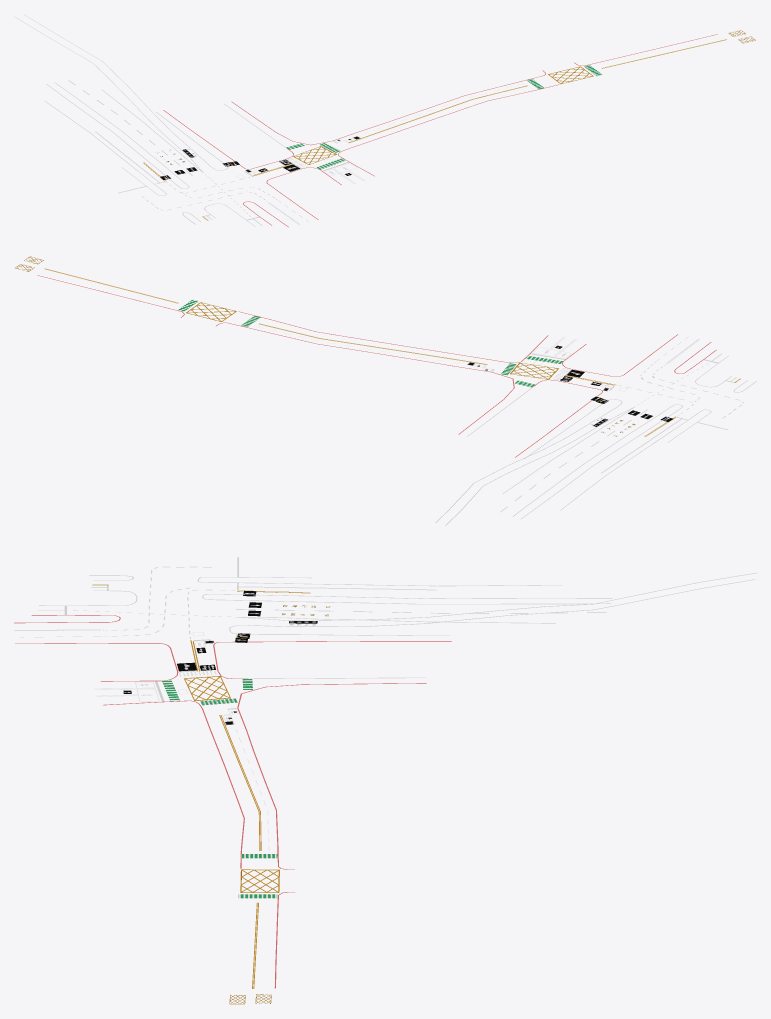
File: RoadSign.fbx
3 renders of one model, top to bottom at view 1: azimuth 30°, elevation 25°; view 2: azimuth 150°, elevation 25°; view 3: azimuth 270°, elevation 25°, orthographic. The views are drawn at different scales.
Parts seen in each view (by area): view 1: Plane.027; view 2: Plane.027; view 3: Plane.027.
Part boxes in pixels (x1,y1,x2,y2): Plane.027: (14,14,726,227); Plane.027: (37,268,756,525); Plane.027: (14,557,756,988).
Size of the model in its own units: 171 by 6.77 by 119.
25 materials, 22 textured.
